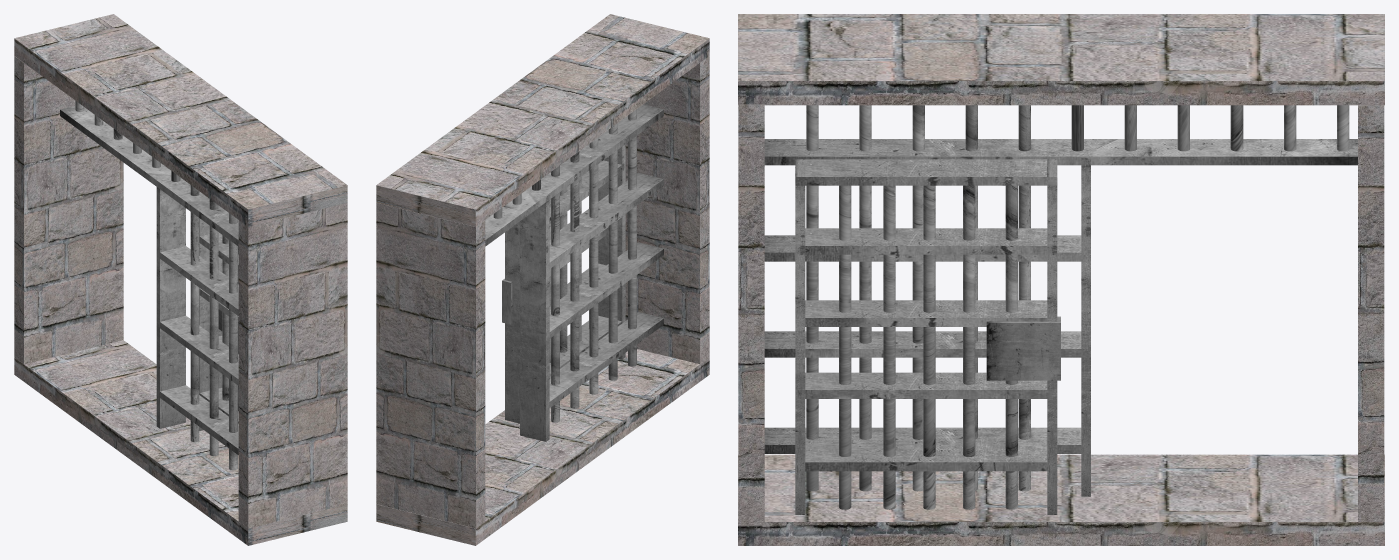
Rendered from prison doorway.fbx.
3 renders of one model, left to right at view 1: azimuth 30°, elevation 25°; view 2: azimuth 150°, elevation 25°; view 3: azimuth 270°, elevation 25°, orthographic. The views are drawn at different scales.
Visible parts, largest first — view 1: polySurface85, polySurface87, polySurface86, polySurface88, polySurface72, polySurface83, polySurface73, polySurface84, polySurface71, polySurface69, polySurface80, polySurface79 (+2 smaller); view 2: polySurface86, polySurface87, polySurface85, polySurface88, polySurface72, polySurface83, polySurface84, polySurface73, polySurface71, pasted__pasted__pasted__pCube14, polySurface69, polySurface79 (+8 smaller); view 3: polySurface87, polySurface88, pasted__pasted__pasted__pasted__pasted__pasted__pasted__past (×6), polySurface83, polySurface85, polySurface86, pasted__pasted__pasted__pasted__pCube11, pasted__pasted__pasted__pasted__pasted__pCube12, pasted__pasted__pasted__pCube11, pasted__pasted__pasted__pCube13, pasted__pasted__pasted__pasted__pasted__pCube11, polySurface84 (+11 smaller).
Boxes of the visible parts, x1,y1,x2,y2 form: polySurface85: [238, 203, 347, 528]; polySurface87: [14, 14, 347, 226]; polySurface86: [14, 56, 123, 364]; polySurface88: [14, 340, 347, 545]; polySurface72: [156, 187, 185, 428]; polySurface83: [60, 106, 238, 246]; polySurface73: [157, 385, 238, 454]; polySurface84: [157, 315, 238, 385]; polySurface71: [157, 246, 238, 315]; polySurface69: [209, 199, 218, 456]; polySurface80: [190, 185, 199, 442]; polySurface79: [229, 213, 237, 470]; polySurface86: [376, 203, 485, 528]; polySurface87: [376, 14, 709, 226]; polySurface85: [625, 56, 709, 364]; polySurface88: [376, 349, 709, 545]; polySurface72: [520, 195, 549, 441]; polySurface83: [485, 104, 663, 246]; polySurface84: [549, 242, 663, 338]; polySurface73: [549, 312, 663, 407]; polySurface71: [549, 172, 663, 268]; pasted__pasted__pasted__pCube14: [505, 221, 519, 423]; polySurface69: [570, 151, 579, 408]; polySurface79: [589, 137, 598, 394]; polySurface87: [738, 14, 1384, 105]; polySurface88: [738, 454, 1384, 545]; pasted__pasted__pasted__pasted__pasted__pasted__pasted__past (×6): [839, 185, 1017, 509]; polySurface83: [764, 139, 1357, 165]; polySurface85: [738, 104, 764, 525]; polySurface86: [1358, 105, 1384, 521]; pasted__pasted__pasted__pasted__pCube11: [795, 159, 1056, 185]; pasted__pasted__pasted__pasted__pasted__pCube12: [800, 444, 1047, 471]; pasted__pasted__pasted__pCube11: [797, 228, 1051, 254]; pasted__pasted__pasted__pCube13: [798, 300, 1047, 326]; pasted__pasted__pasted__pasted__pasted__pCube11: [797, 372, 1052, 398]; polySurface84: [764, 331, 1089, 357].
Bounding box in the file's own units: 5.99 × 19.34 × 24.39.
